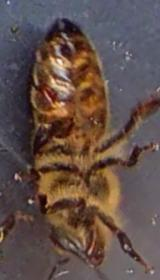varroa_mite: (36, 80, 60, 106)
